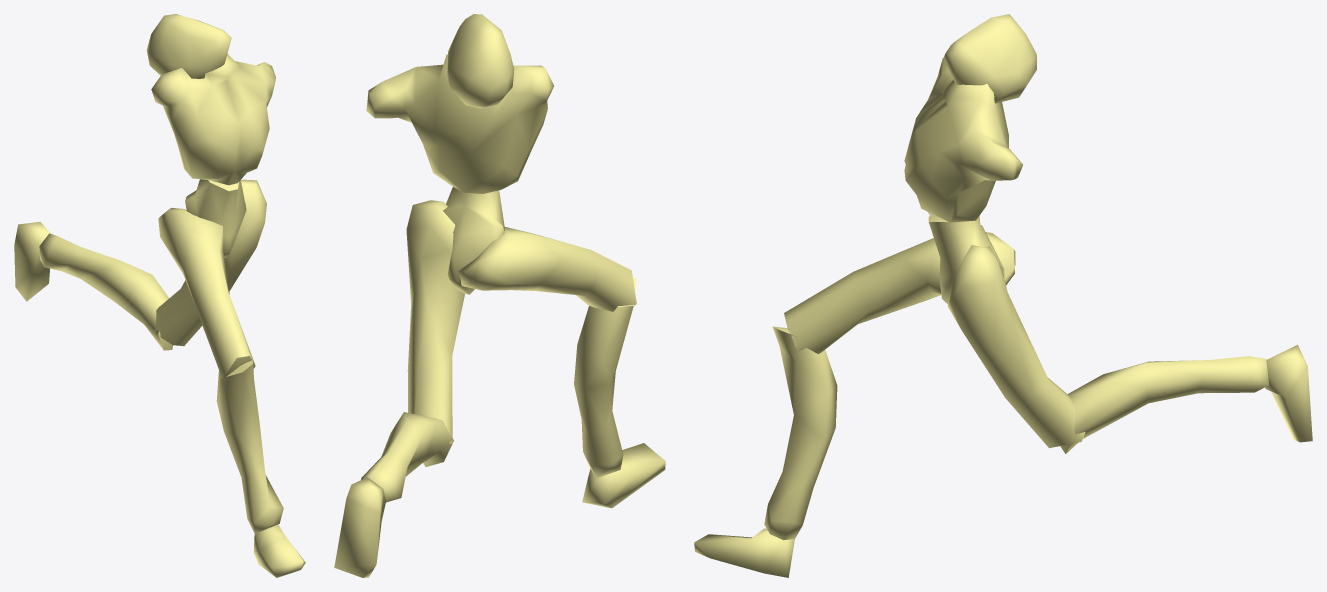
Rendered from filth23.obj.
The picture shows the model from 3 angles, left to right: view 1: azimuth 30°, elevation 25°; view 2: azimuth 150°, elevation 25°; view 3: azimuth 270°, elevation 25°; orthographic projection. The views are drawn at different scales.
Parts seen in each view (by area): view 1: Melee_Husk; view 2: Melee_Husk; view 3: Melee_Husk.
Part boxes in pixels (x1,y1,x2,y2): Melee_Husk: [14, 14, 305, 577]; Melee_Husk: [334, 14, 665, 577]; Melee_Husk: [694, 14, 1312, 577].
Bounding box in the file's own units: 20.75 × 68.12 × 68.07.
